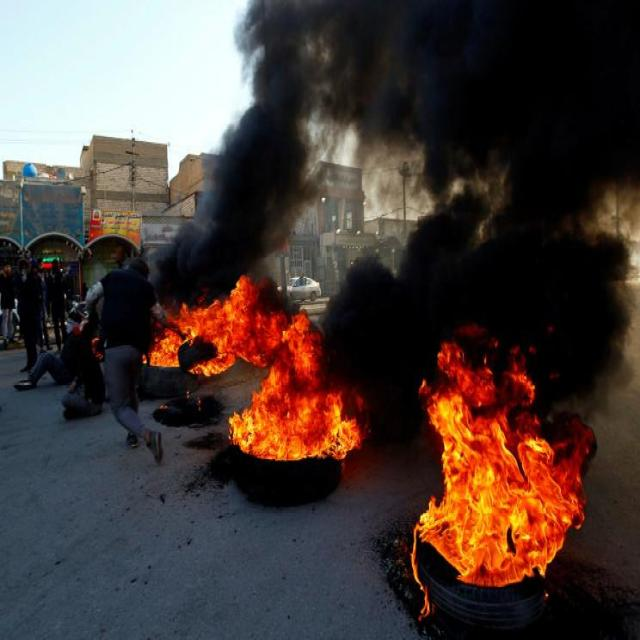fire: (418, 341, 592, 587), (231, 387, 370, 461), (148, 302, 234, 378), (262, 311, 324, 388), (227, 275, 270, 368), (411, 523, 430, 621)
